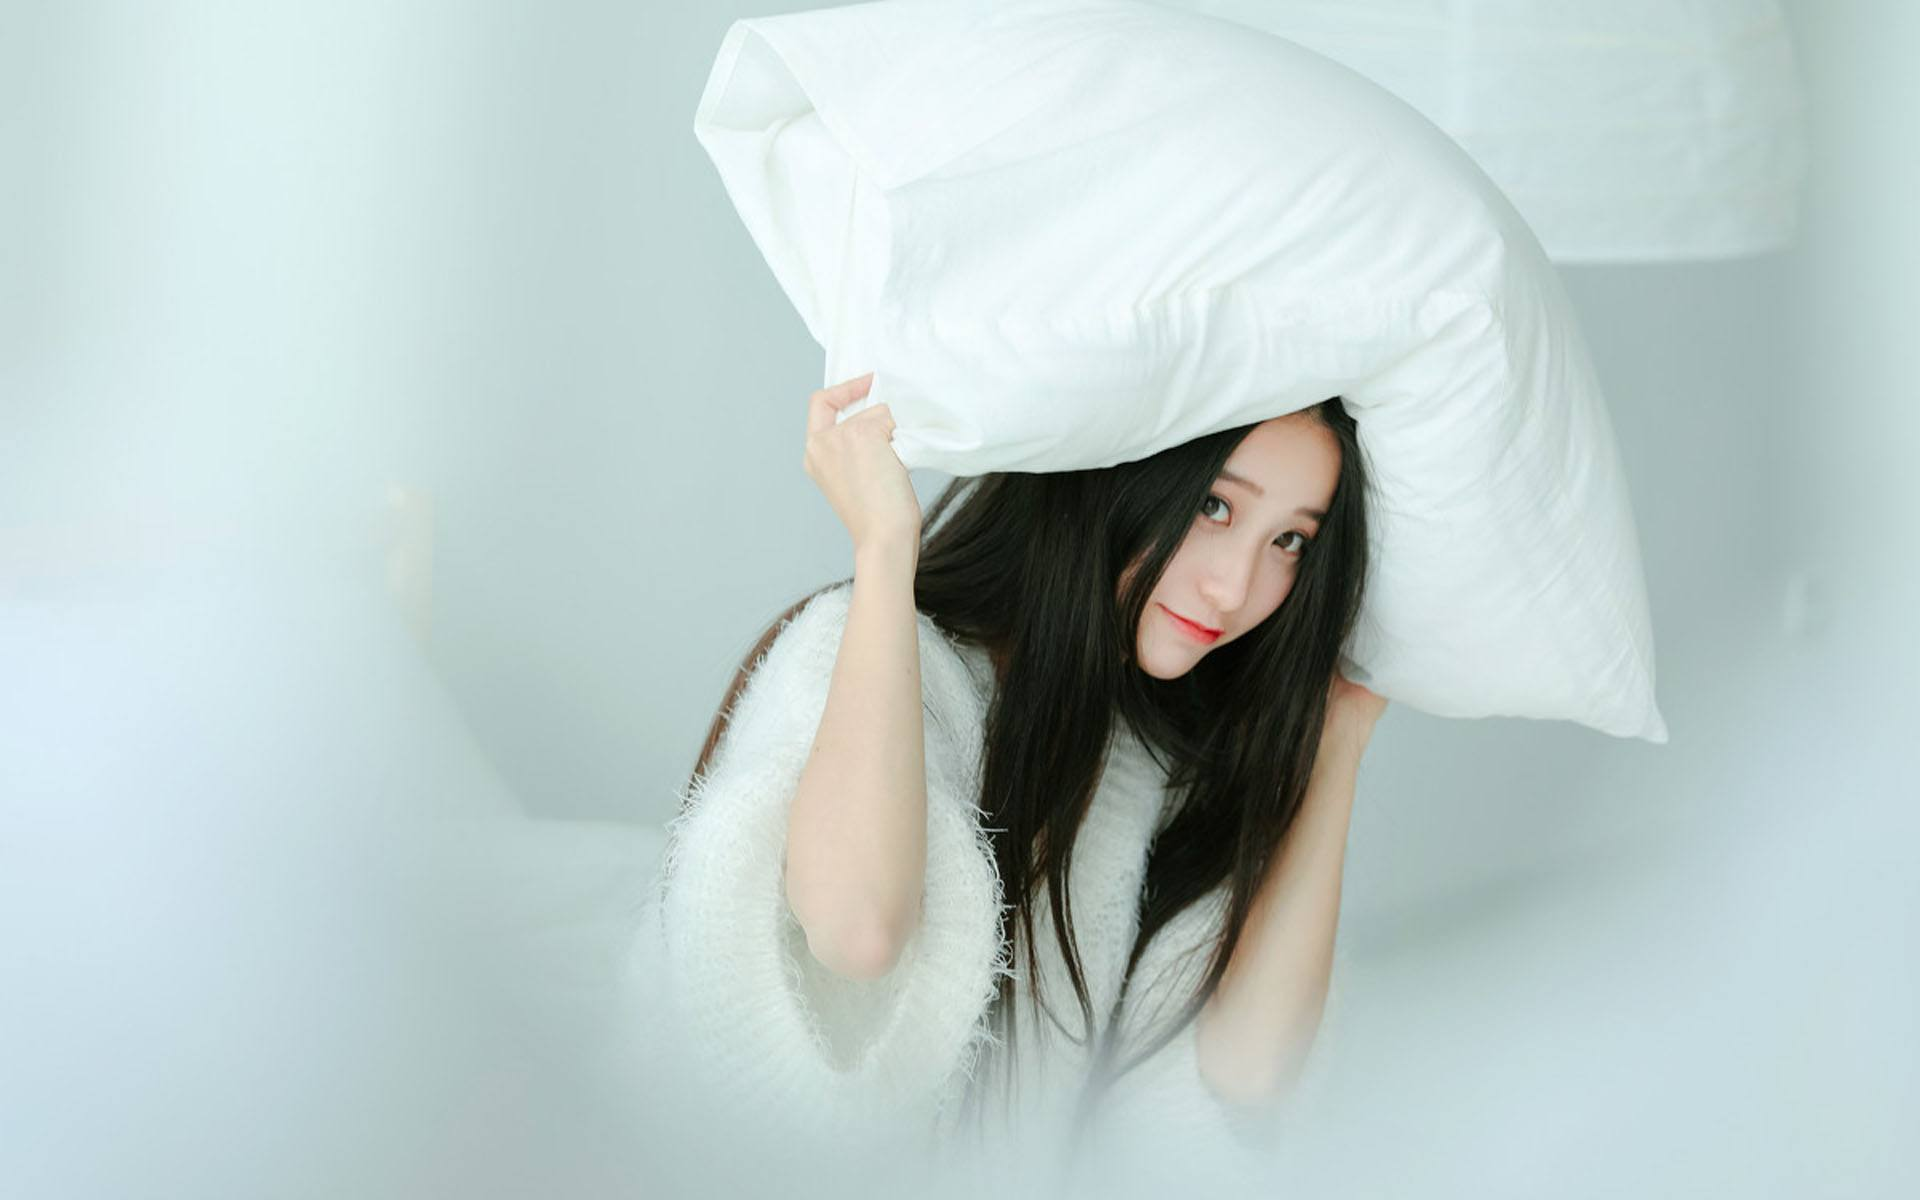person: (612, 191, 1515, 1079)
